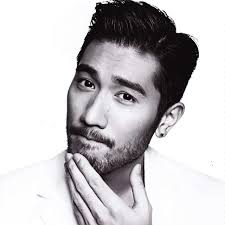asian_male: (51, 16, 173, 190)
